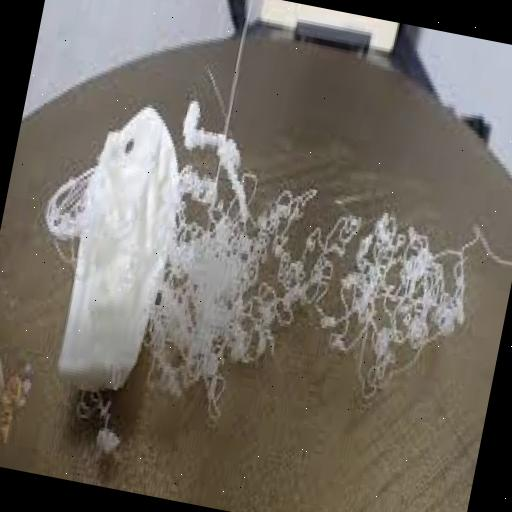spaghetti: (7, 117, 495, 451)
